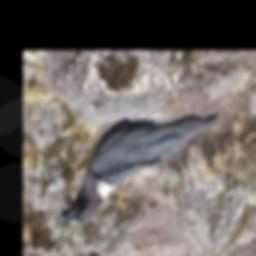Crow: (59, 110, 222, 223)
